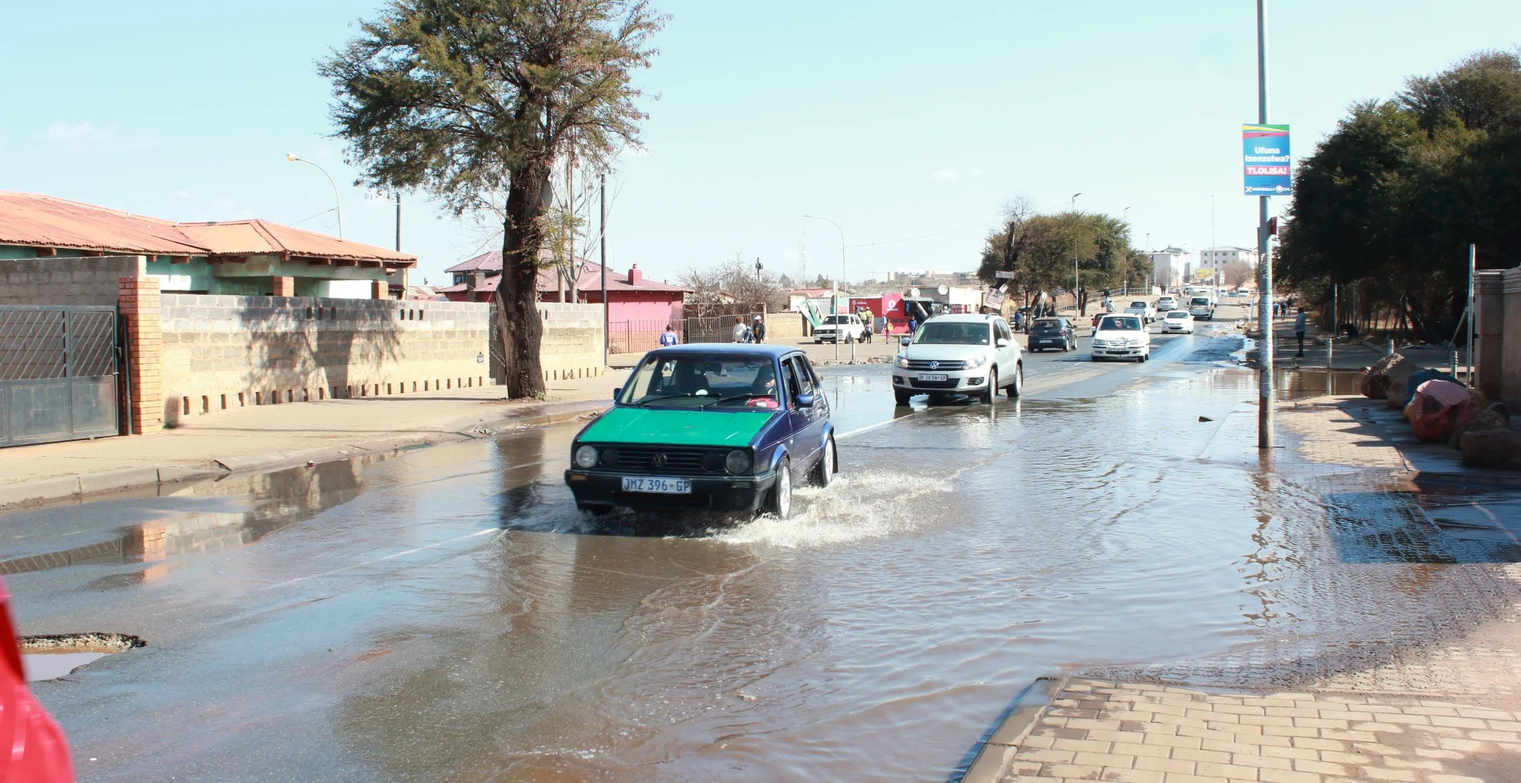water_leak: (400, 394, 1517, 780)
